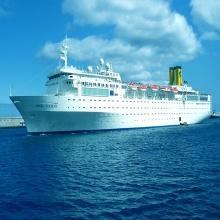youlun: (8, 40, 212, 133)
